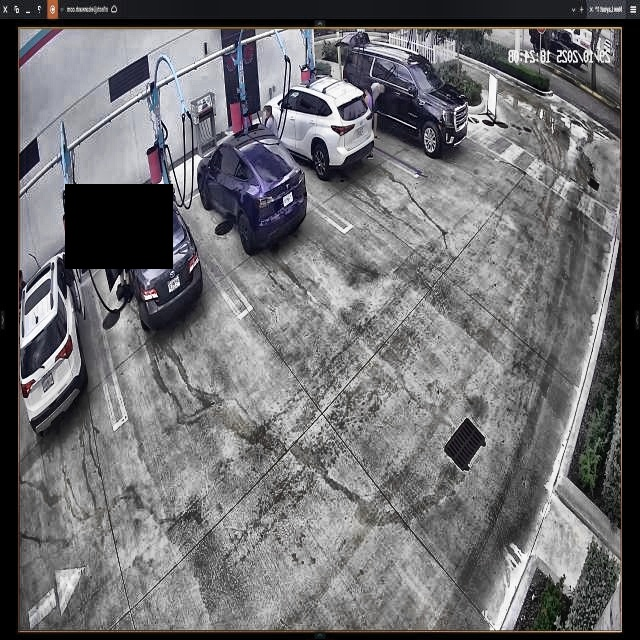Car: (104, 186, 202, 329), (196, 128, 305, 250), (262, 77, 372, 175)
